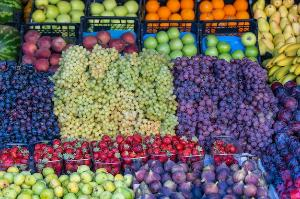apple: (20, 25, 77, 73), (80, 20, 138, 66), (202, 22, 262, 62), (142, 22, 200, 62), (25, 0, 84, 24), (84, 0, 138, 26)
banana: (260, 42, 300, 82)
figs: (0, 163, 134, 199), (136, 166, 261, 199)
grape: (57, 42, 175, 140), (180, 57, 274, 146), (0, 61, 54, 143)
orange: (140, 0, 196, 26), (199, 1, 252, 22)
pear: (252, 1, 300, 54)
plum: (267, 90, 299, 199)
strawberry: (0, 132, 241, 172)
